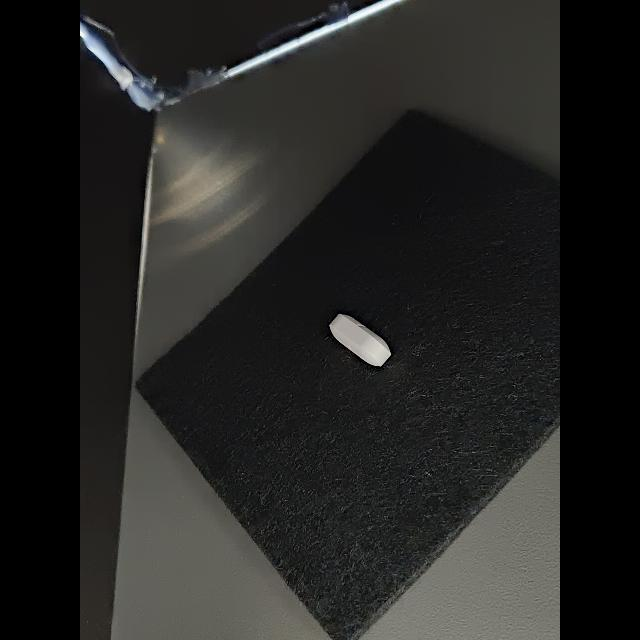Intact Pill: (329, 314, 391, 366)
